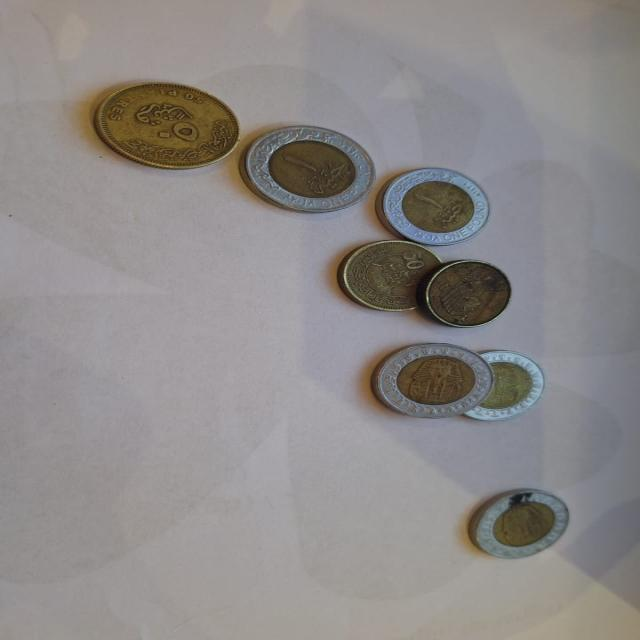Half Pound: (98, 78, 244, 166), (429, 258, 527, 328), (341, 242, 442, 307)
One Pound: (243, 122, 381, 216), (372, 340, 498, 418), (376, 166, 496, 242), (473, 487, 578, 555), (475, 345, 553, 419)
